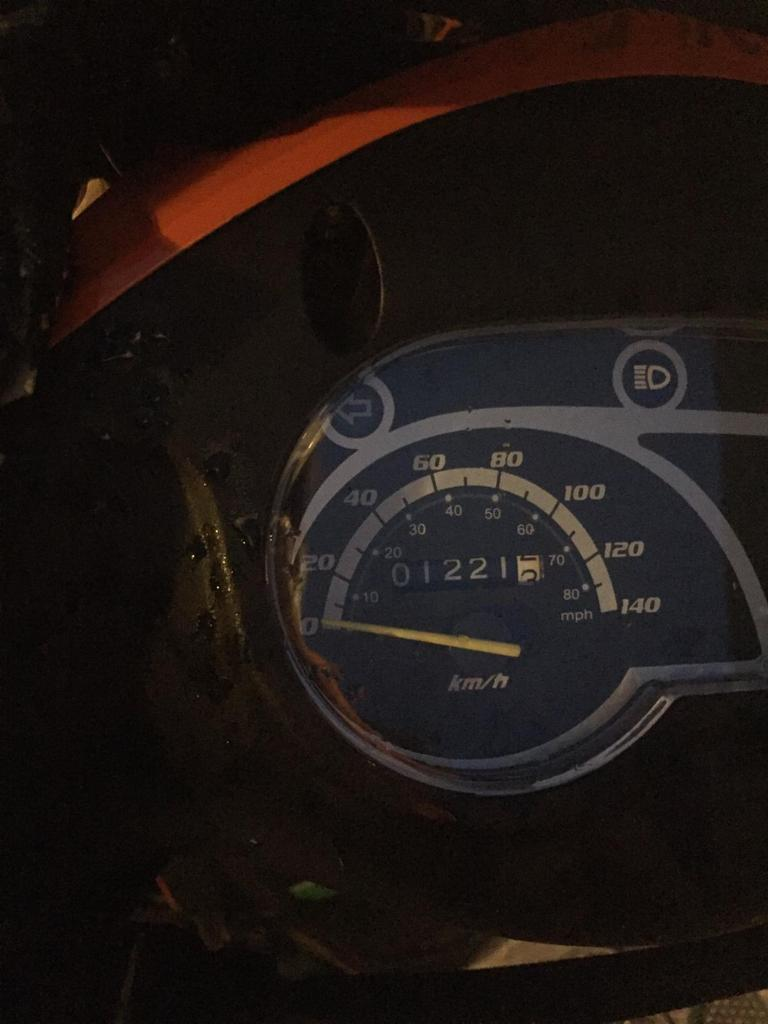0: (389, 562, 411, 588)
1: (420, 556, 433, 584), (497, 553, 509, 579)
2: (468, 556, 490, 583), (442, 557, 463, 583)
3: (520, 568, 540, 587)
odometer: (381, 554, 546, 591)
